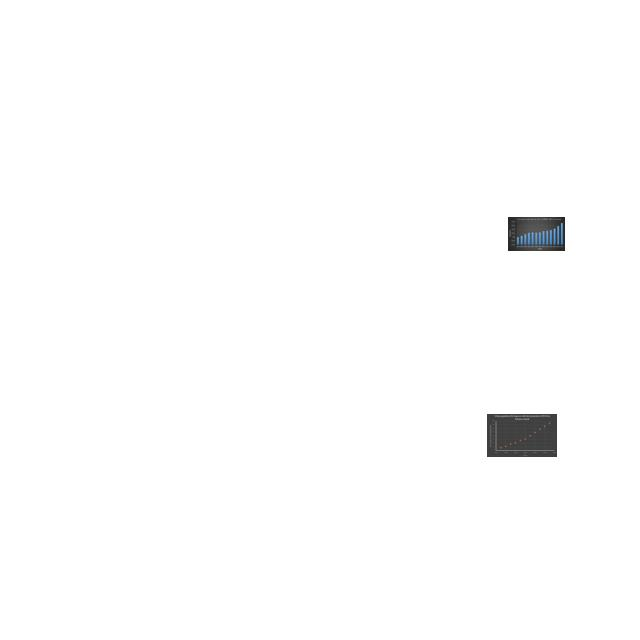Graph: (487, 414, 557, 457), (508, 217, 565, 251)
